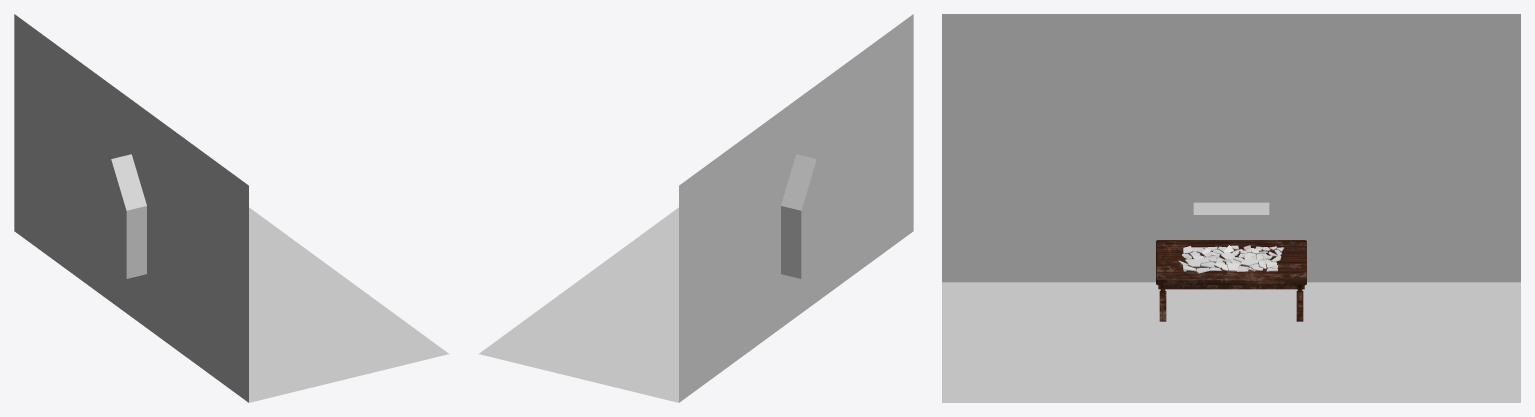
3 views of the same model, side by side, from view 1: azimuth 30°, elevation 25°; view 2: azimuth 150°, elevation 25°; view 3: azimuth 270°, elevation 25° (orthographic). The views are drawn at different scales.
Visible parts, largest first — view 1: Plane, Plane.001; view 2: Plane, Plane.001; view 3: Plane, Plane.001, Table.001.
Boxes of the visible parts, <box> form: Plane: <box>14,14,248,402</box>; Plane.001: <box>249,207,448,402</box>; Plane: <box>679,14,913,402</box>; Plane.001: <box>479,207,678,402</box>; Plane: <box>942,14,1520,282</box>; Plane.001: <box>942,282,1520,402</box>; Table.001: <box>1156,240,1306,321</box>.
Bounding box in the file's own units: 672 × 631 × 1234.
